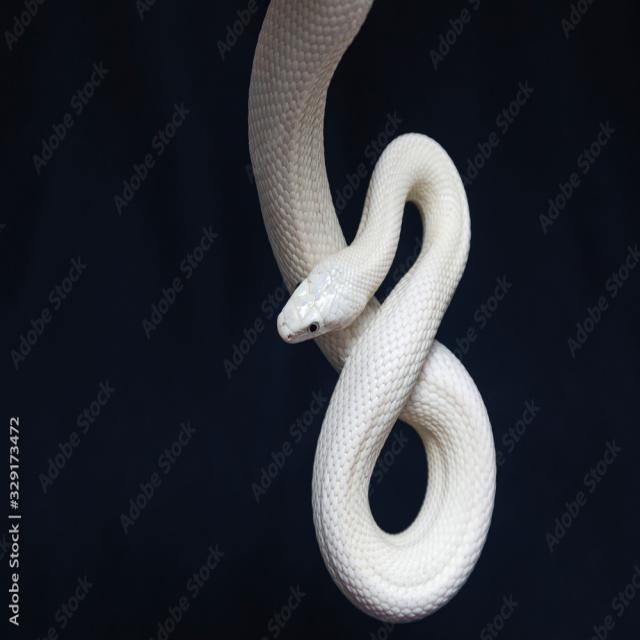Snake: (222, 0, 506, 635)
